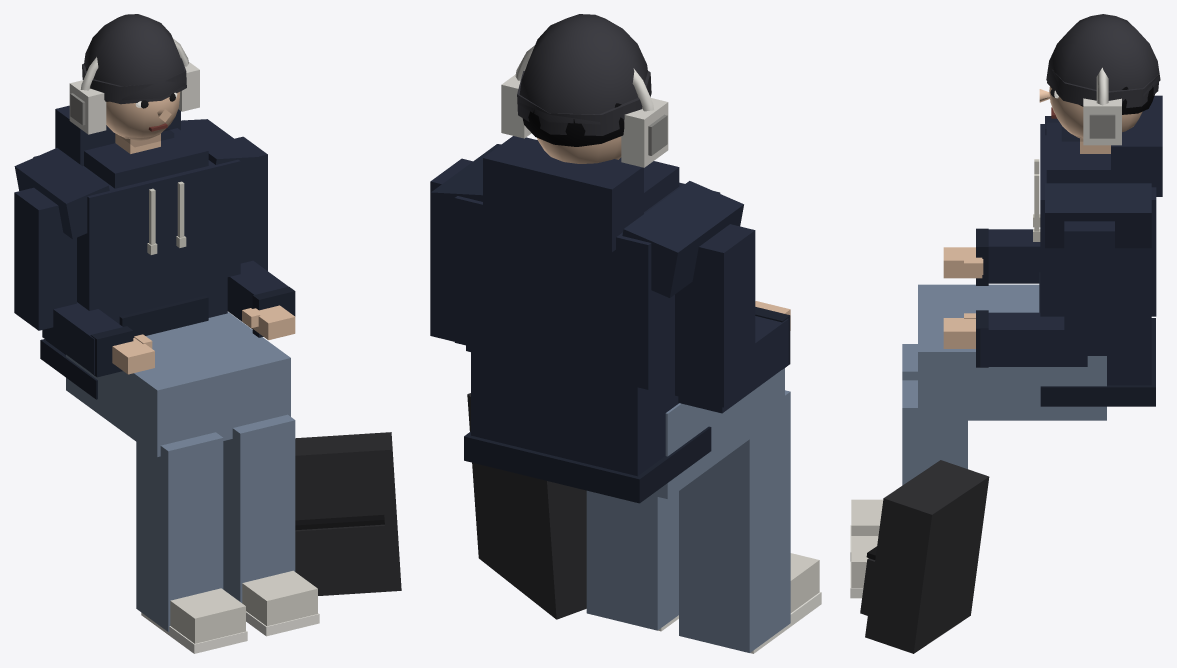
Rendered from passenger_hoodie_seated.glb.
3 views of the same model, side by side, from view 1: azimuth 30°, elevation 25°; view 2: azimuth 150°, elevation 25°; view 3: azimuth 270°, elevation 25° (orthographic). The views are drawn at different scales.
Parts seen in each view (by area): view 1: passenger_hoodie_seated, Head, Body_Skin, Head_Skin; view 2: passenger_hoodie_seated, Head, Head_Skin; view 3: passenger_hoodie_seated, Head, Body_Skin, Head_Skin.
Part boxes in pixels (left/top/right/bottom): passenger_hoodie_seated: left=14, top=105, right=401, bottom=653; Head: left=69, top=14, right=199, bottom=146; Body_Skin: left=112, top=133, right=295, bottom=374; Head_Skin: left=106, top=92, right=180, bottom=140; passenger_hoodie_seated: left=430, top=136, right=821, bottom=653; Head: left=501, top=14, right=668, bottom=167; Head_Skin: left=537, top=136, right=621, bottom=163; passenger_hoodie_seated: left=850, top=95, right=1162, bottom=653; Head: left=1046, top=14, right=1160, bottom=145; Body_Skin: left=943, top=138, right=1110, bottom=348; Head_Skin: left=1039, top=86, right=1142, bottom=138.
Bounding box in the file's own units: 0.8022 × 1.42 × 0.7275.
